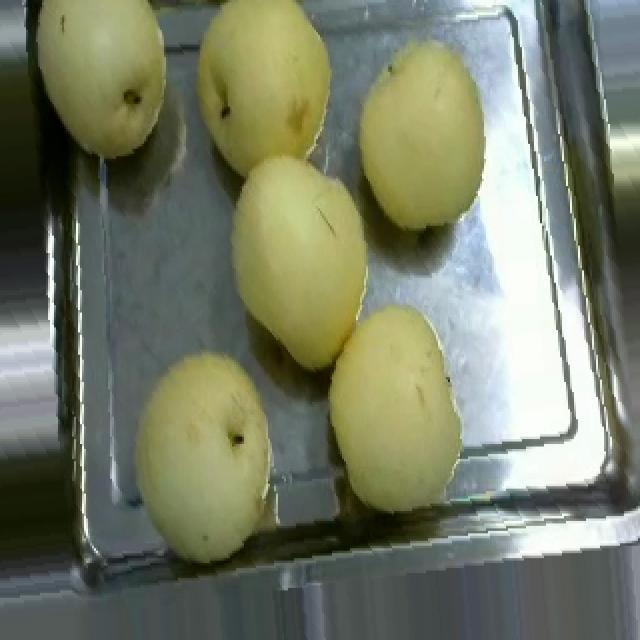Fruit: (218, 144, 388, 382), (120, 338, 288, 576), (338, 17, 510, 248), (314, 290, 480, 526), (180, 0, 350, 189), (26, 0, 178, 166)
